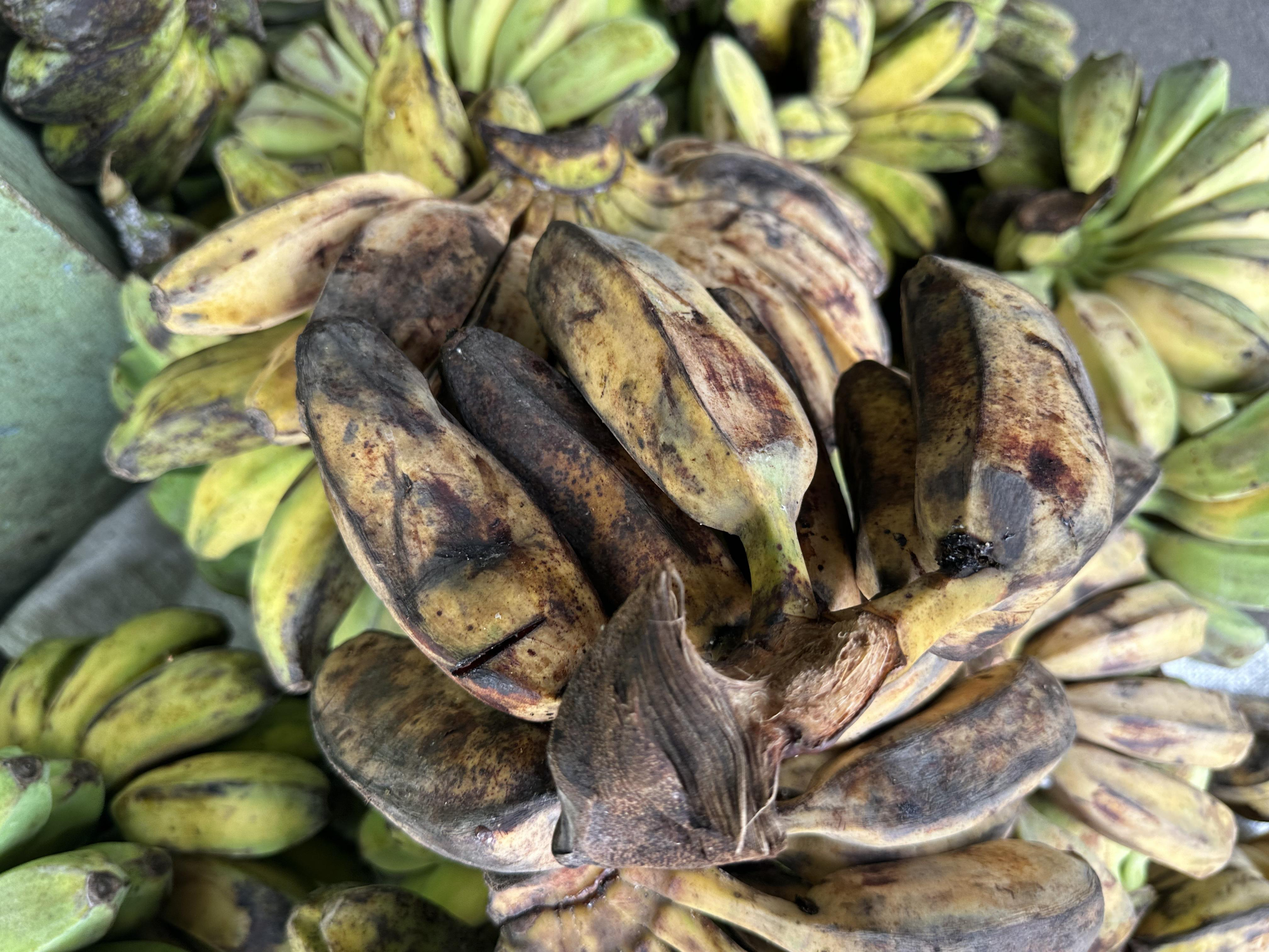overripe: (295, 220, 1161, 872)
ripe: (784, 660, 1104, 952), (1023, 530, 1254, 878), (149, 172, 547, 371), (648, 137, 891, 446)
underripe: (1004, 50, 1269, 464), (104, 317, 364, 691), (234, 0, 678, 186), (0, 607, 329, 857), (775, 0, 1000, 267), (0, 0, 265, 198)
